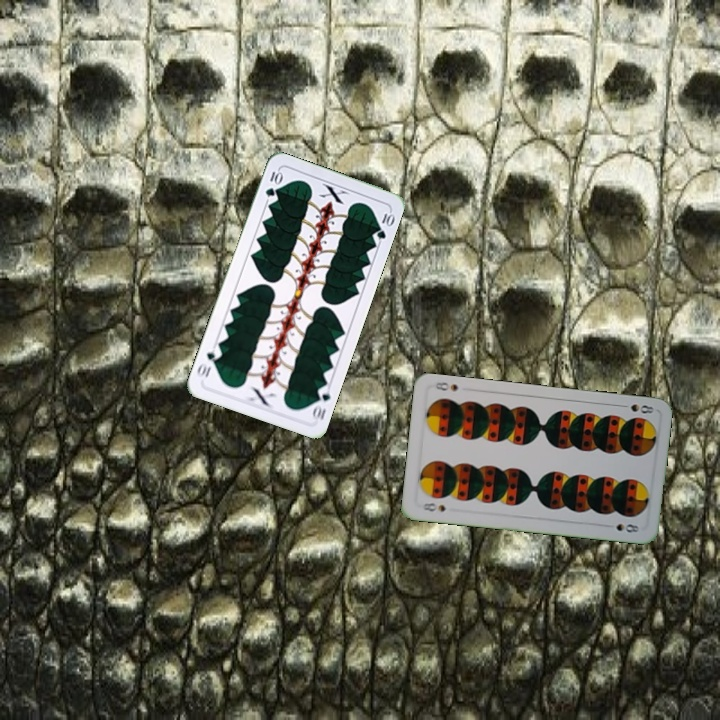G10: (308, 382, 333, 423), (261, 166, 284, 199)
S8: (616, 400, 656, 416), (419, 499, 448, 514)
